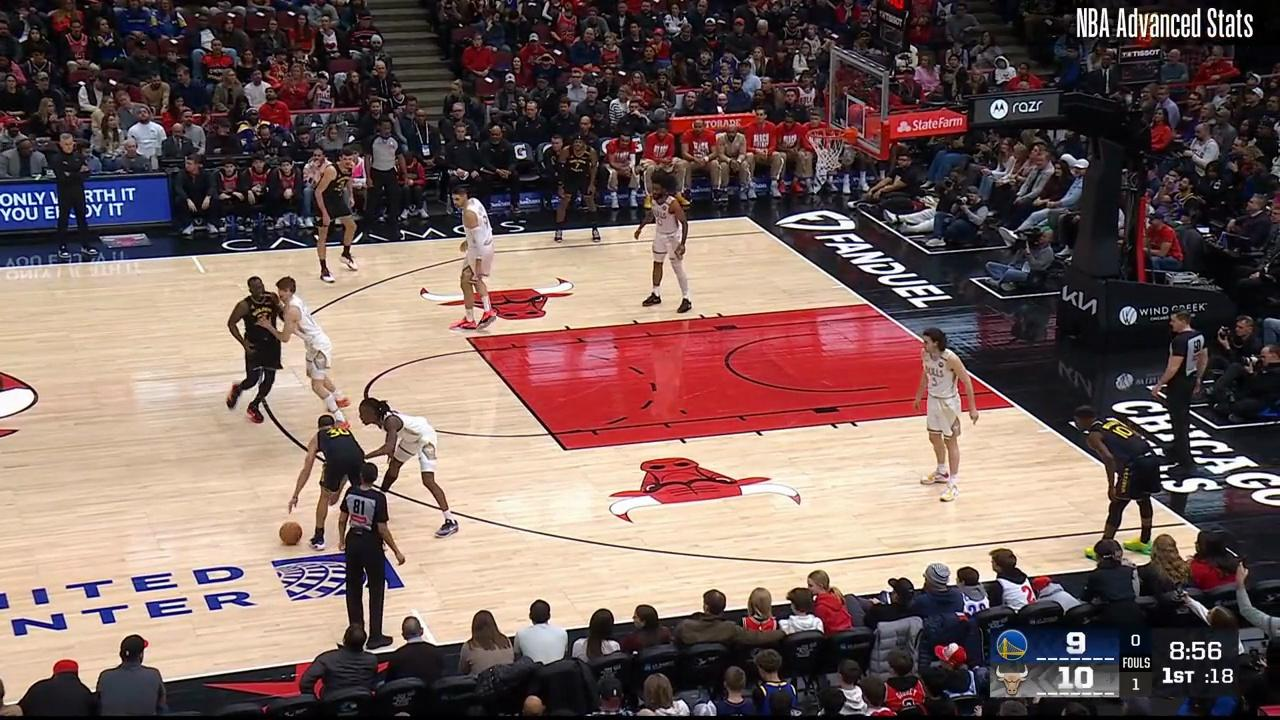basketball: (278, 522, 304, 547)
